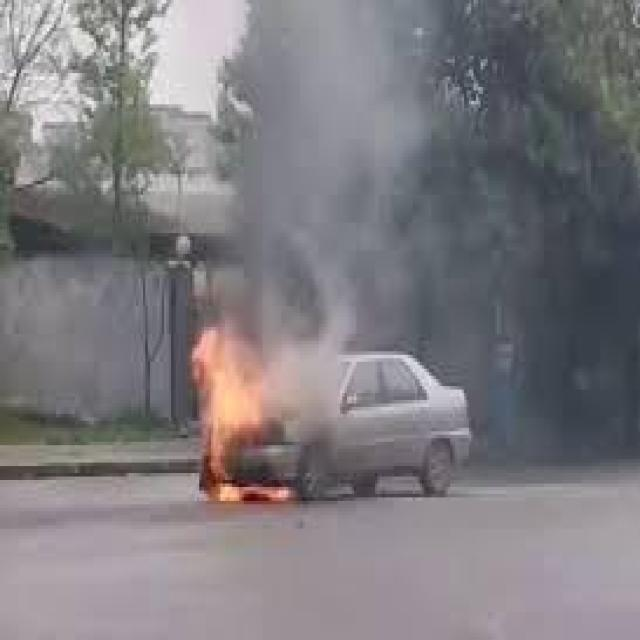Fire: (178, 310, 305, 518)
Smoke: (244, 3, 466, 409)
